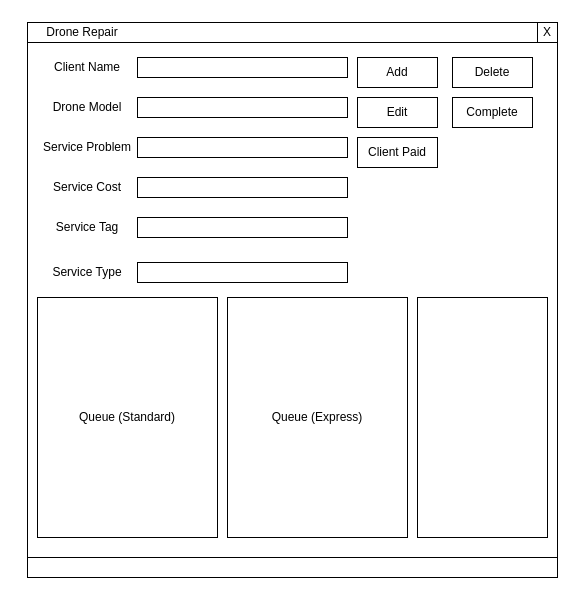
This 575x599 diagram has some shape labels left out. The centre of each missing label's shape, as x and y in pixels:
"Finished Jobs" belongs at (482,417).
"Status Strip" belongs at (292,567).
